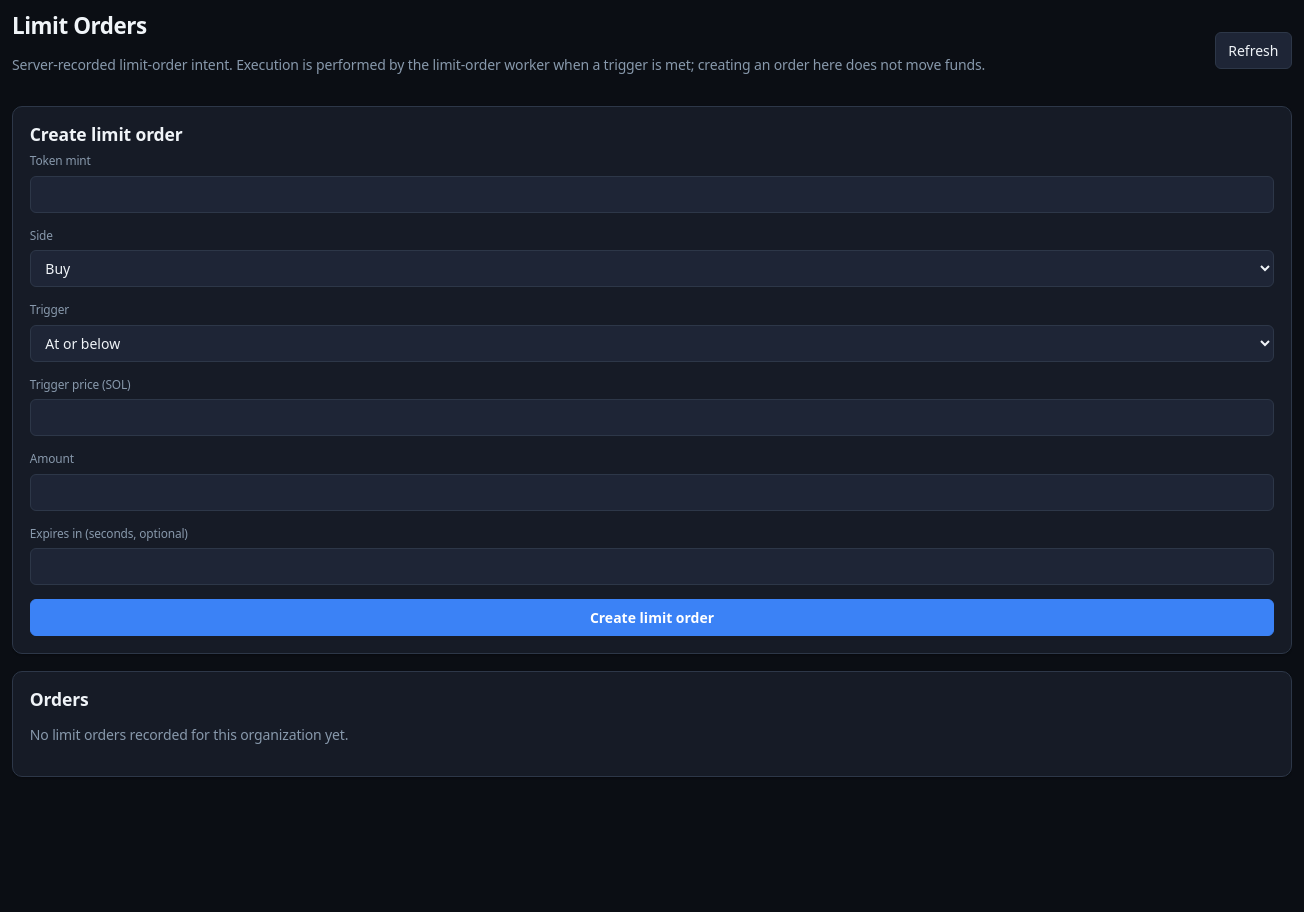
Scenario: Limit orders › page creates an order and renders it only from the refetched list
Check: the text "No limit orders recorded for this organization yet." is shown, box [30,726,348,744]
Type "So11111111111111111111111111111111111111112" into the field labelled "Token mint" at [652, 194], box [30,176,1274,213]
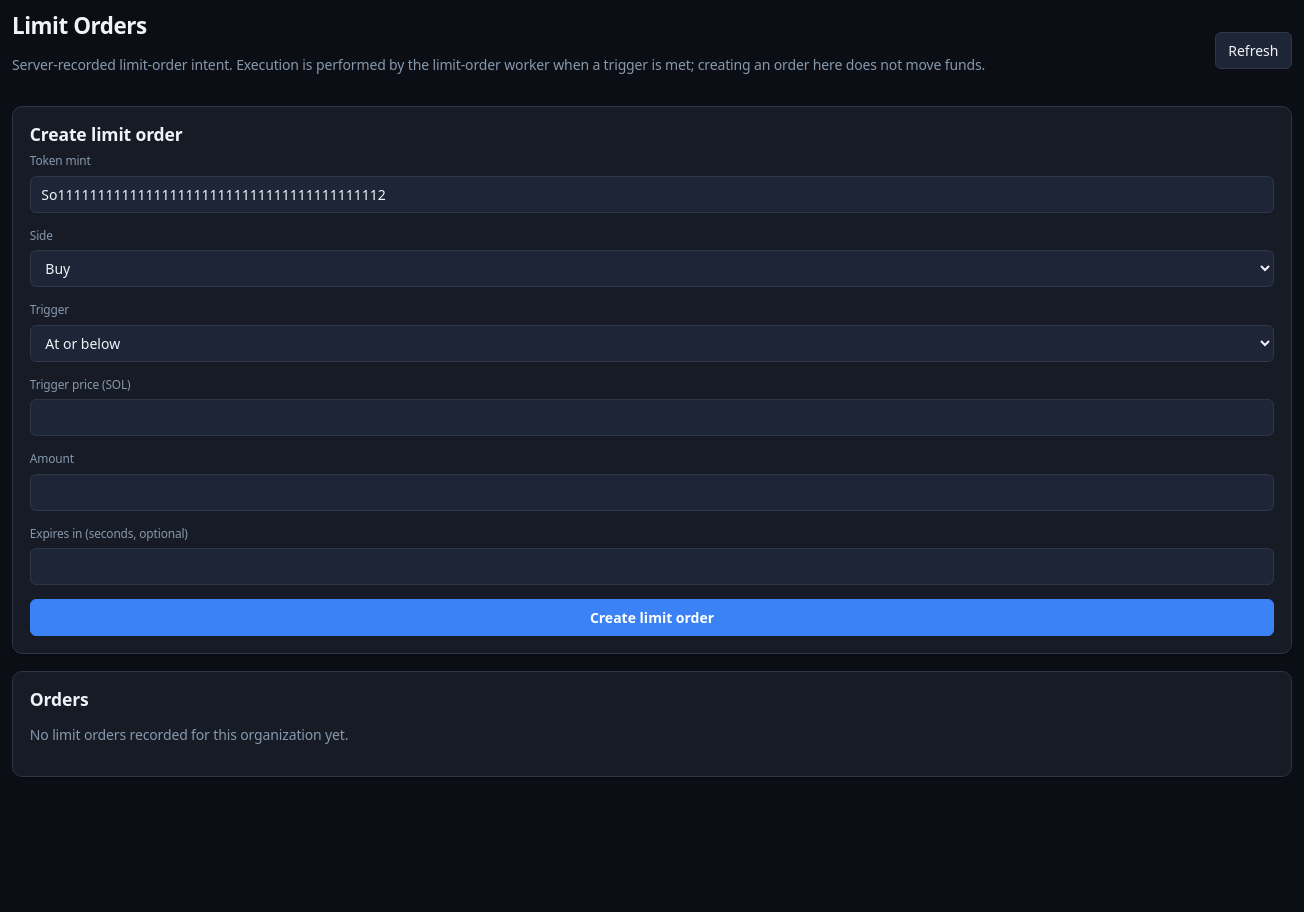
Type "0.01" into the number field labelled "Trigger price (SOL)" at [652, 418], box [30,399,1274,436]
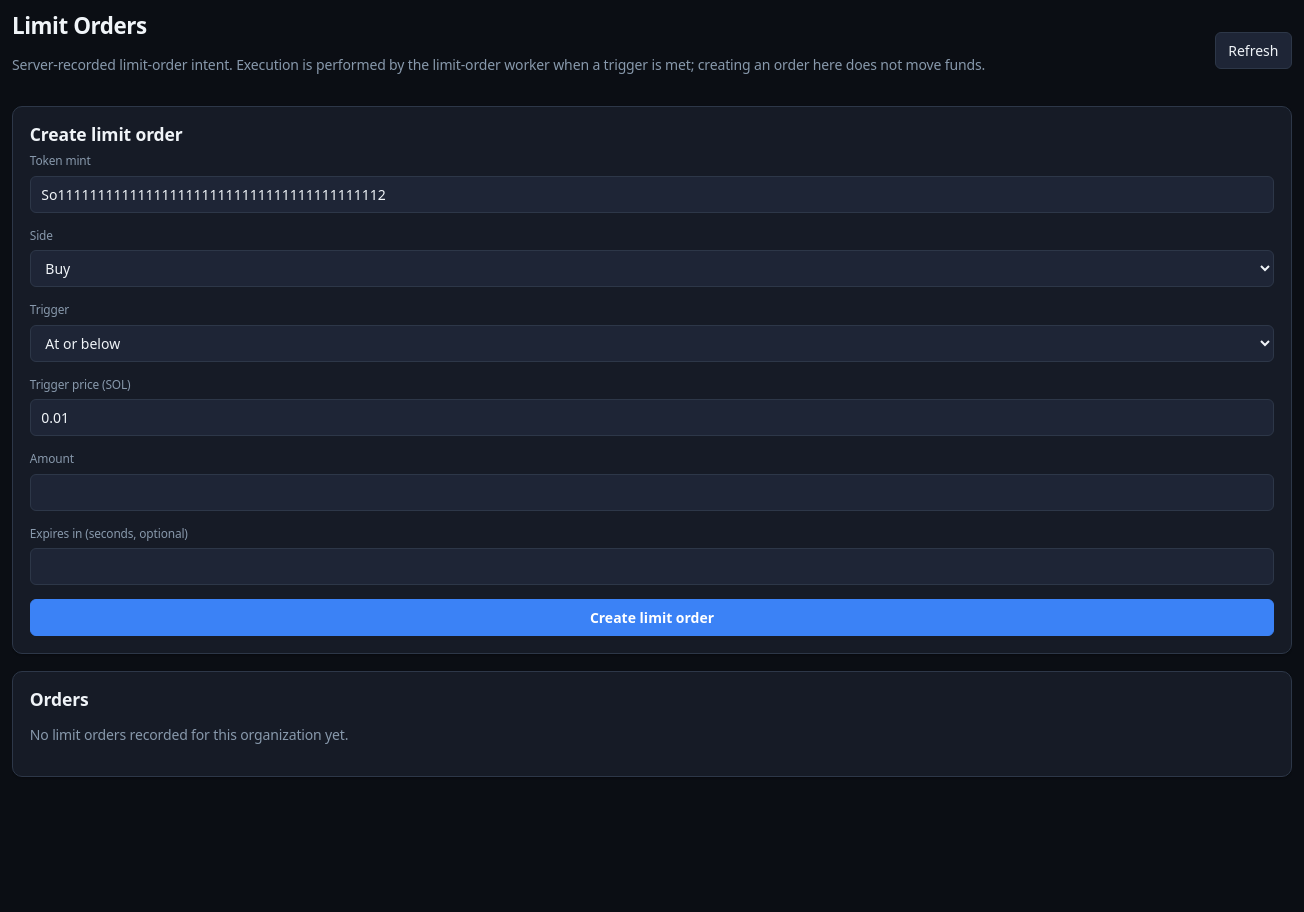
Type "25" into the number field labelled "Amount" at [652, 492], box [30,474,1274,511]
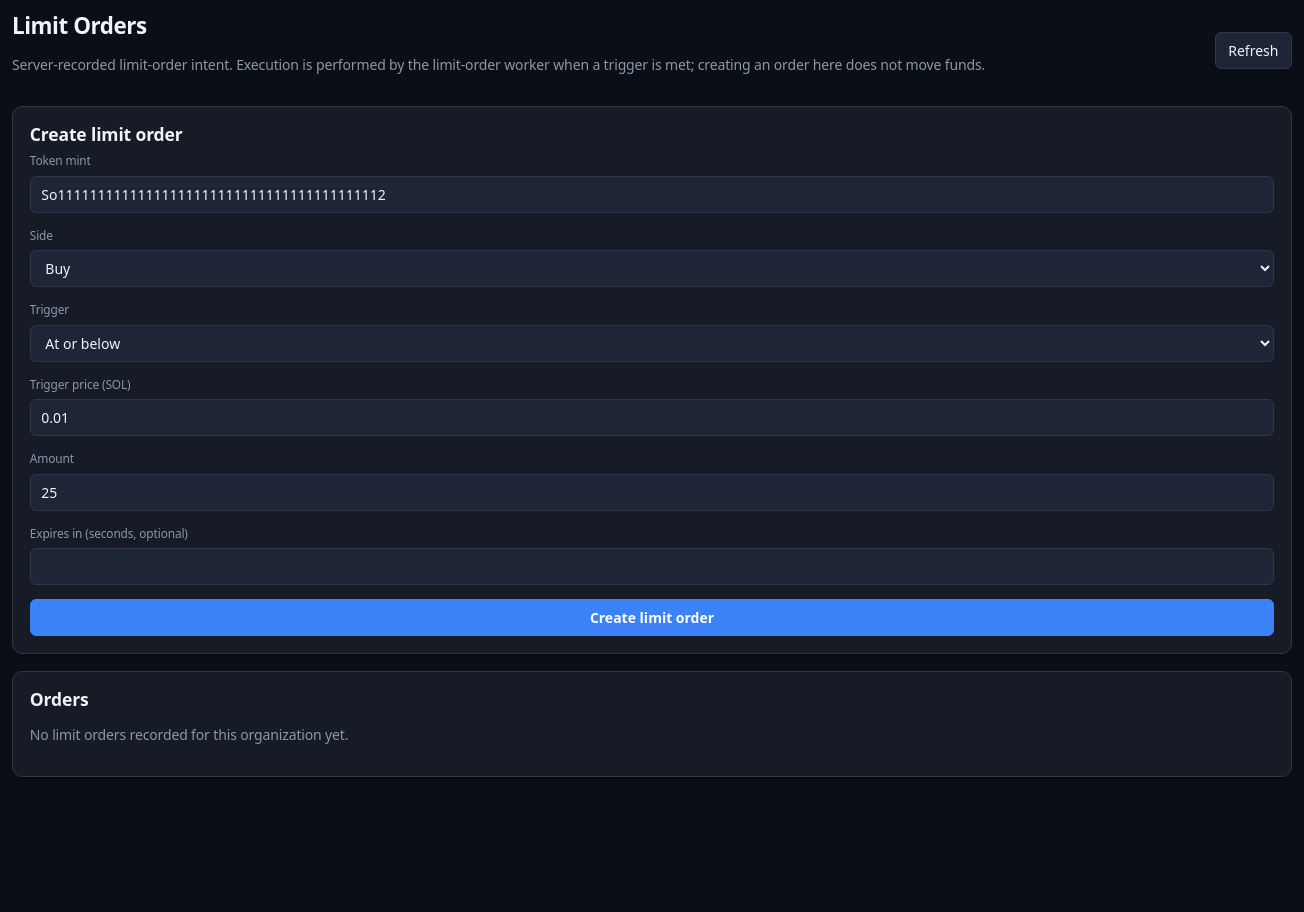
Click the button "Create limit order" at [652, 618], box [30,599,1274,636]
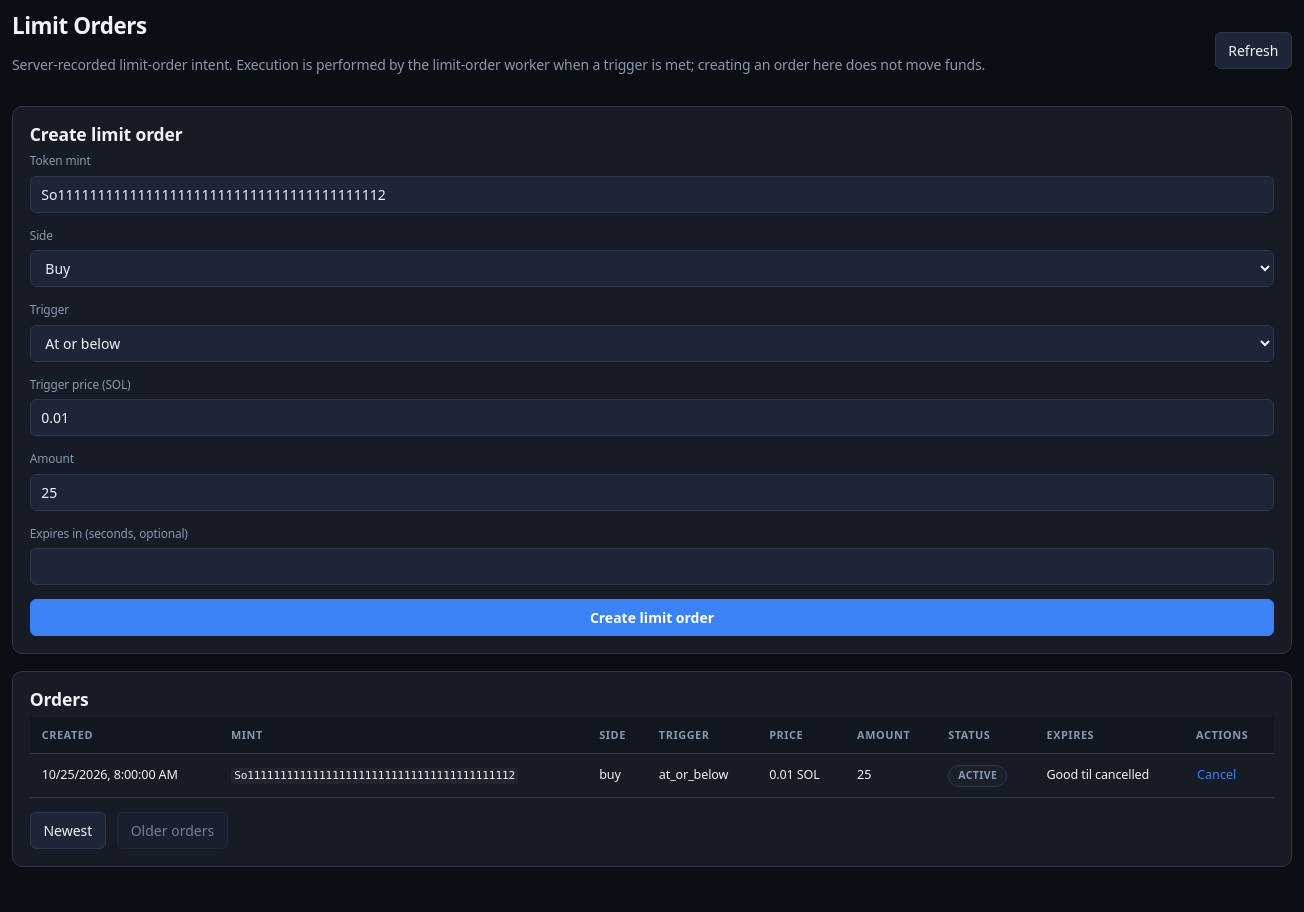
Check: the text "active" is shown, box [948,765,1008,787]
